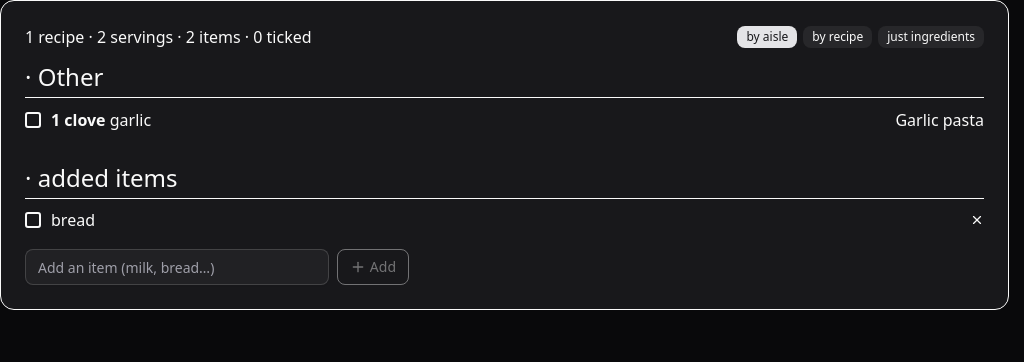
Test: ShoppingList extras › can start an empty list with a manually entered item
The width and height of the screenshot is (1024, 362).
In the field named "Add a shopping-list item": [177, 267] box [25,249,329,285], type "milk"
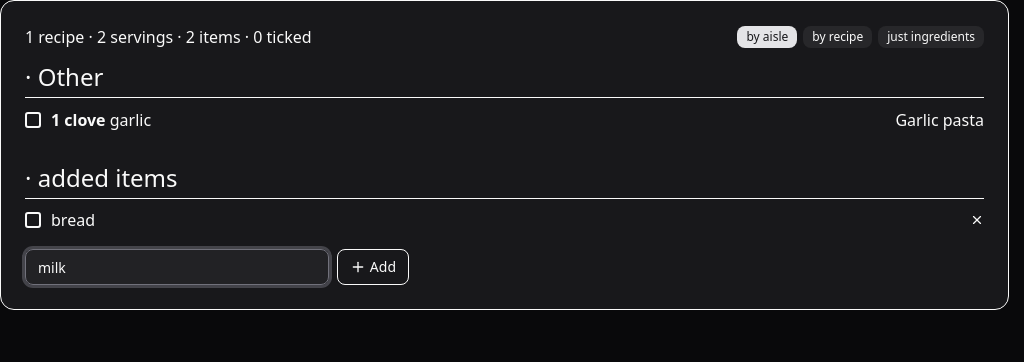
Click the button "Add": [373, 267] box [337,249,409,285]
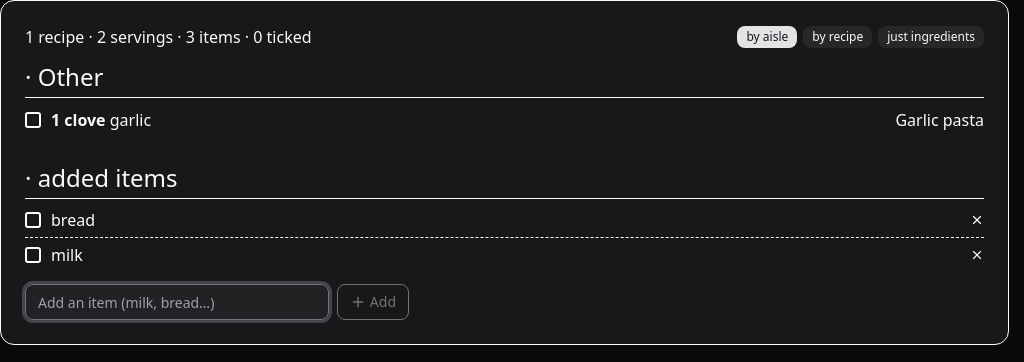
Expected: the text "milk" is shown, [51,244,83,266]
